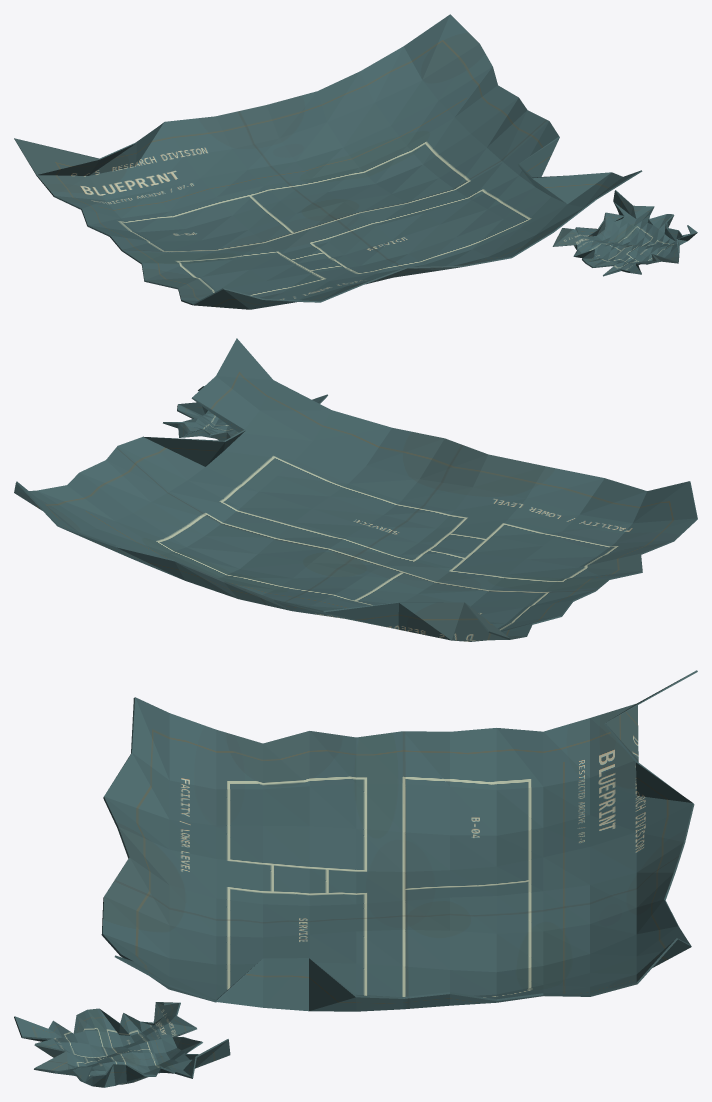
The model's file is DS_Clue_FacilityPlan_Damaged_V01.fbx.
3 views of the same model, one above another, from view 1: azimuth 30°, elevation 25°; view 2: azimuth 150°, elevation 25°; view 3: azimuth 270°, elevation 25° (orthographic). The views are drawn at different scales.
Visible parts, largest first — view 1: DS_Clue_FacilityPlan_Damaged_V01; view 2: DS_Clue_FacilityPlan_Damaged_V01; view 3: DS_Clue_FacilityPlan_Damaged_V01.
Part boxes in pixels (x1=…): DS_Clue_FacilityPlan_Damaged_V01: x1=14, y1=14, x2=697, y2=309; DS_Clue_FacilityPlan_Damaged_V01: x1=14, y1=338, x2=697, y2=641; DS_Clue_FacilityPlan_Damaged_V01: x1=14, y1=670, x2=697, y2=1087.
Bounding box in the file's own units: 102 × 19.74 × 87.83.
1 material, 1 textured.
